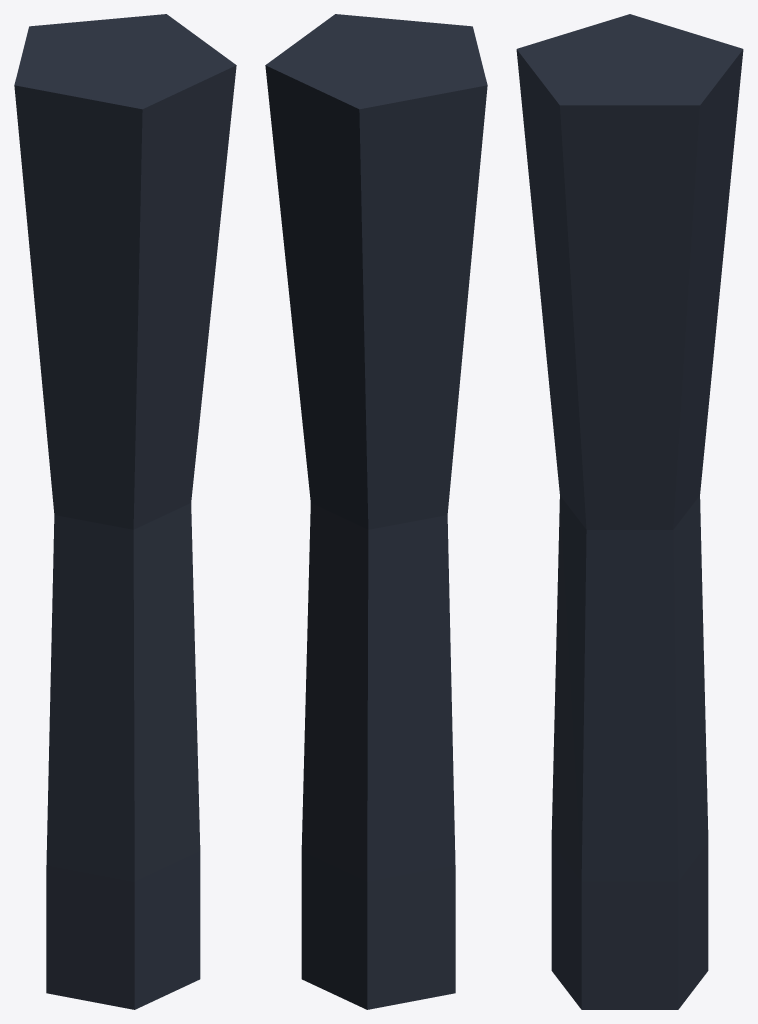
Rendered from animal_megascarab_leg.obj.
3 renders of one model, left to right at view 1: azimuth 30°, elevation 25°; view 2: azimuth 150°, elevation 25°; view 3: azimuth 270°, elevation 25°, orthographic.
Visible parts, largest first — view 1: animal_megascarab_leg; view 2: animal_megascarab_leg; view 3: animal_megascarab_leg.
Boxes of the visible parts, x1,y1,x2,y2 form: animal_megascarab_leg: (14,14,236,1009); animal_megascarab_leg: (265,14,487,1009); animal_megascarab_leg: (516,14,743,1009).
Bounding box in the file's own units: 0.0309 × 0.1444 × 0.0324.
